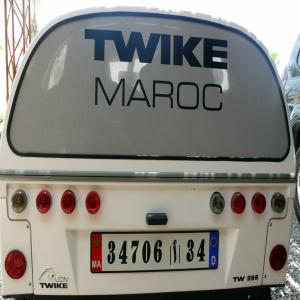Vehicle-registration-plate: (65, 207, 243, 276)
